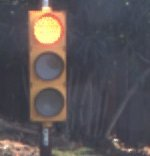Red: (20, 5, 75, 128)
